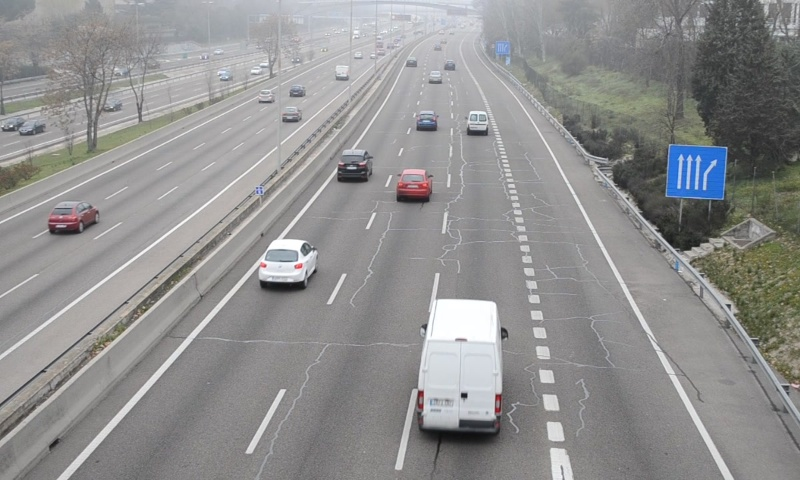car: (258, 239, 318, 282), (336, 149, 372, 182), (396, 168, 431, 200), (416, 110, 437, 130)
van: (417, 298, 504, 434), (466, 110, 490, 136)
